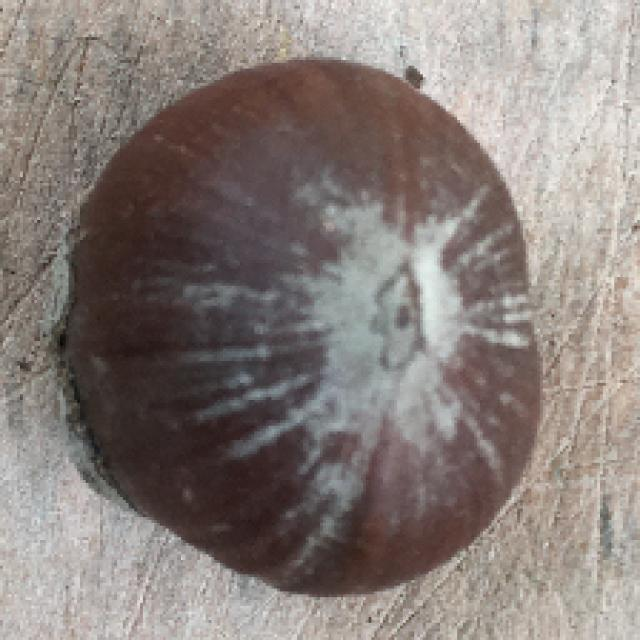damagedHazelnut: (44, 46, 554, 596)
